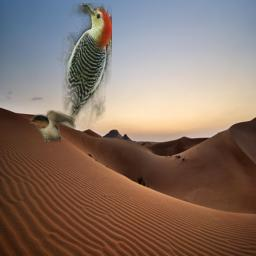Swallow: (30, 110, 76, 142)
Woodpecker: (45, 3, 112, 141)
